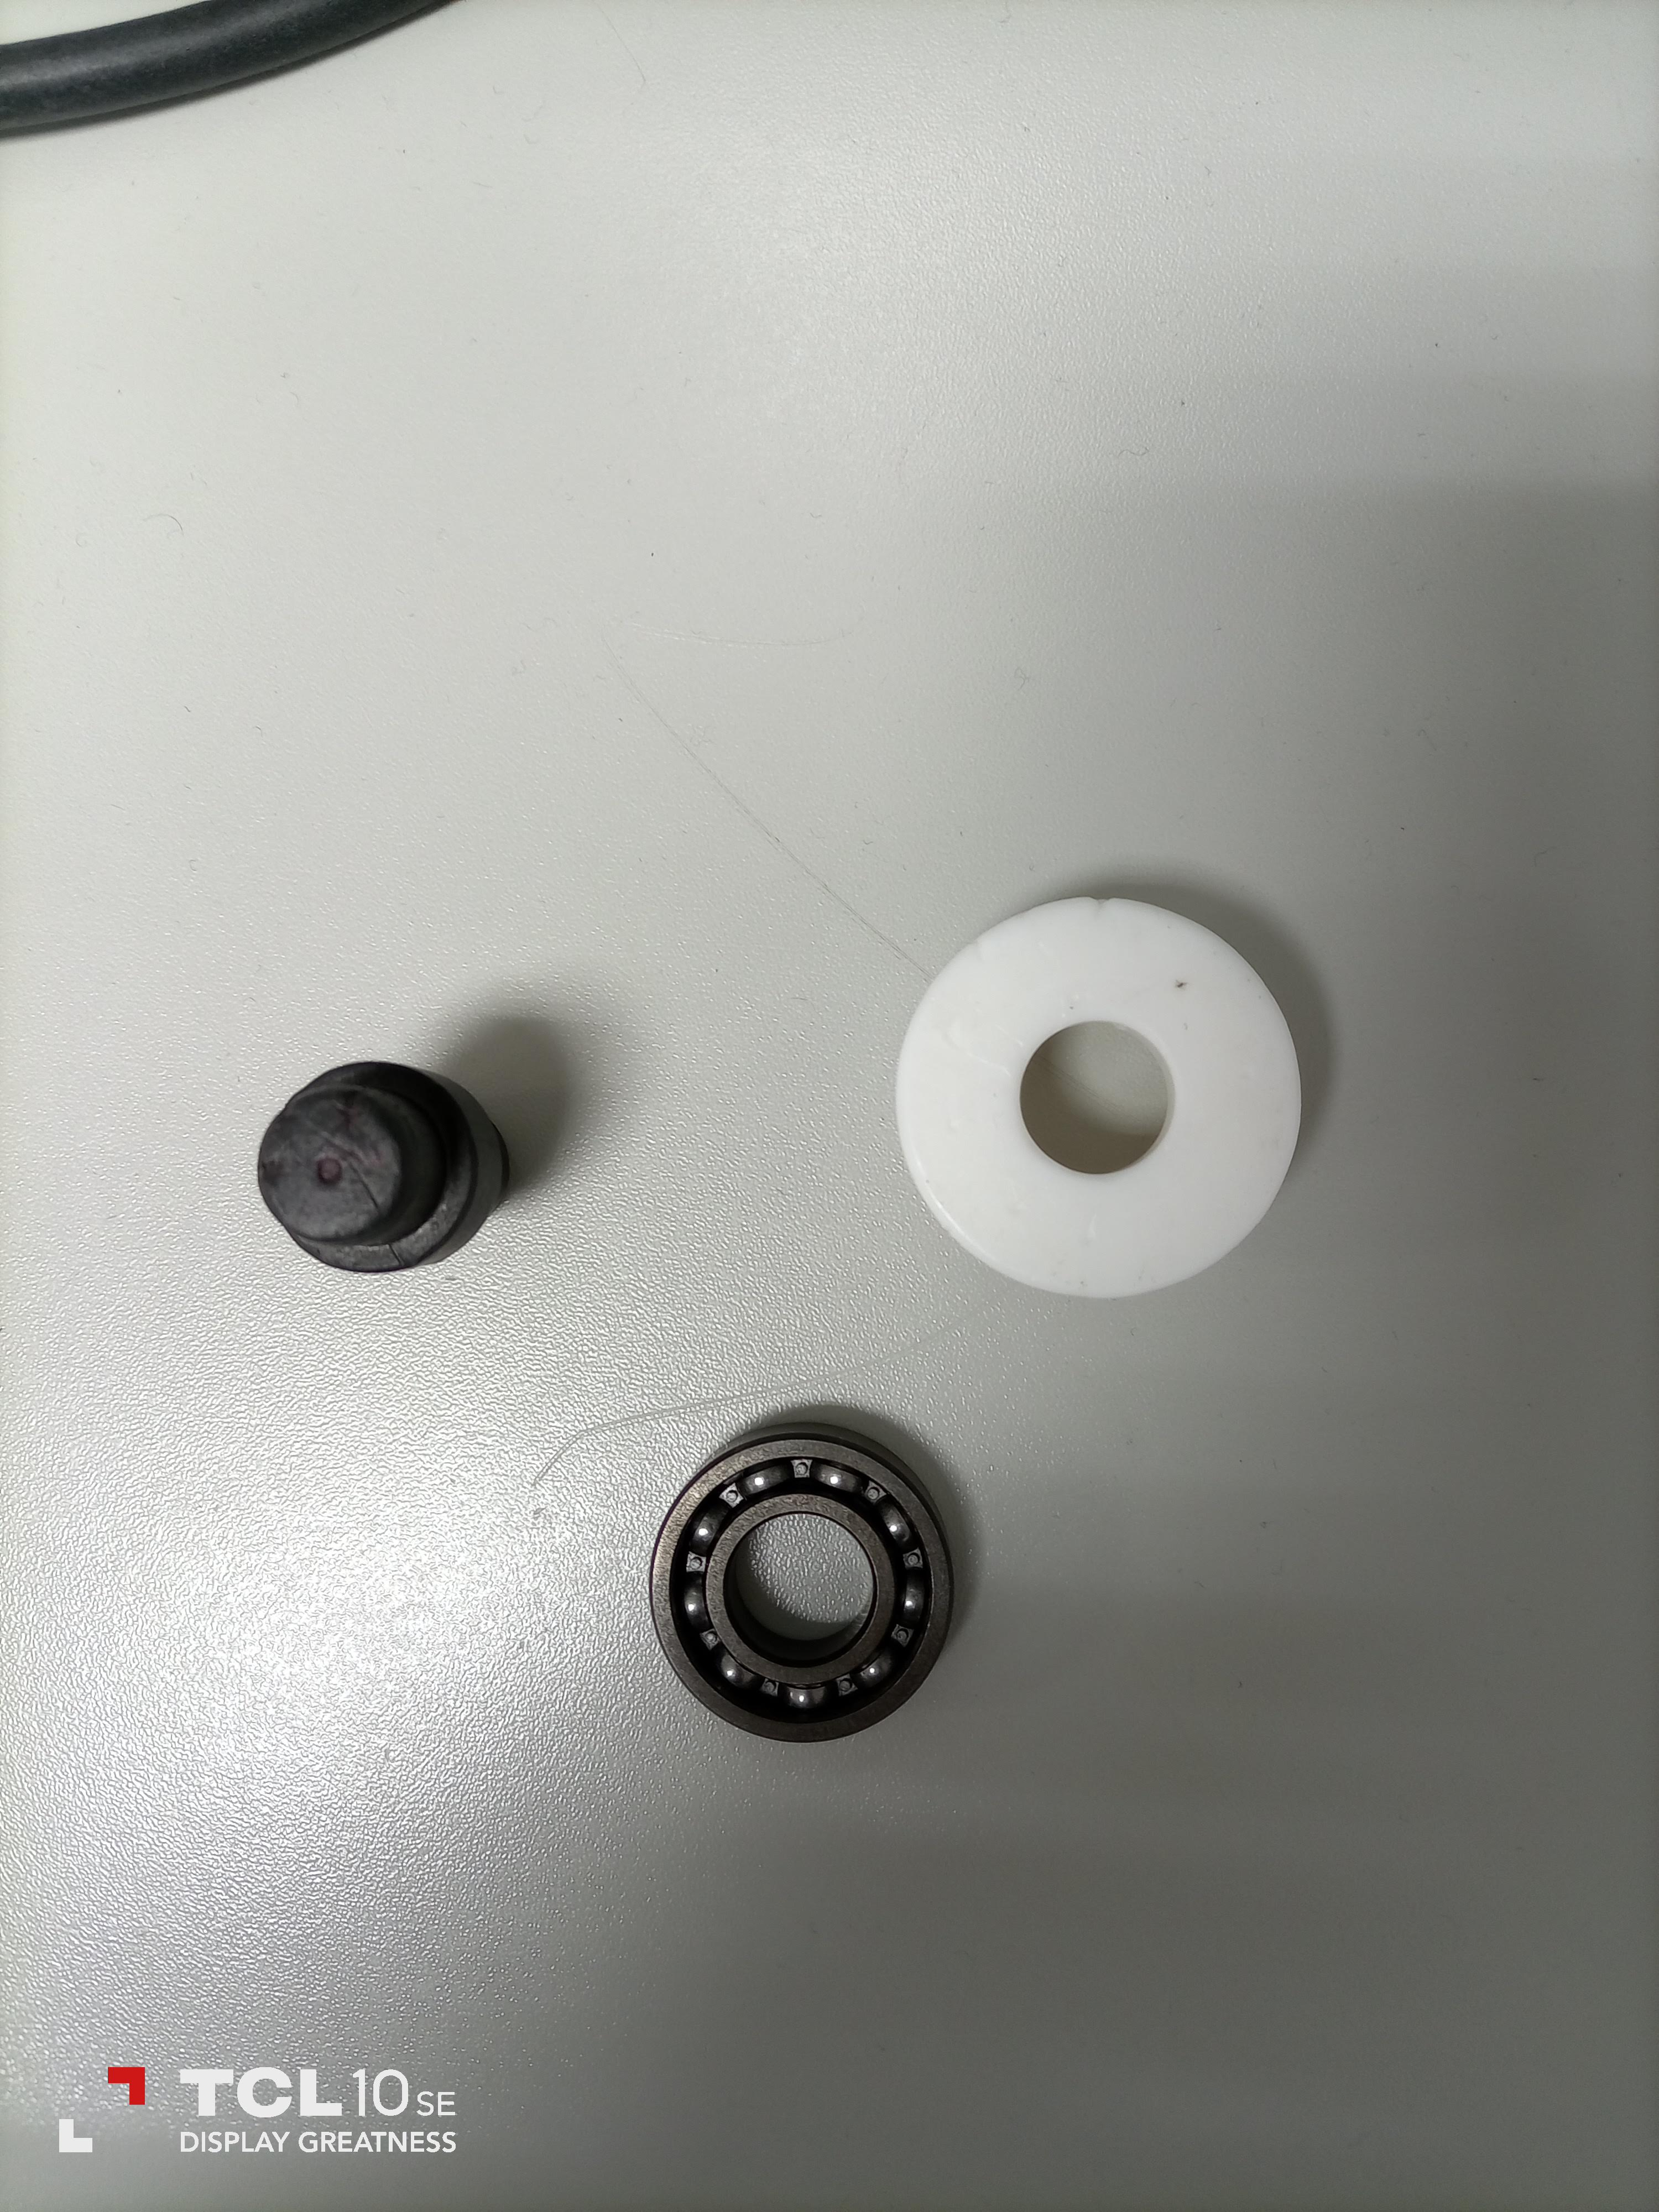Ardatza: (258, 1047, 526, 1291)
Roda: (641, 1430, 943, 1733)
Tapa: (892, 895, 1338, 1291)
